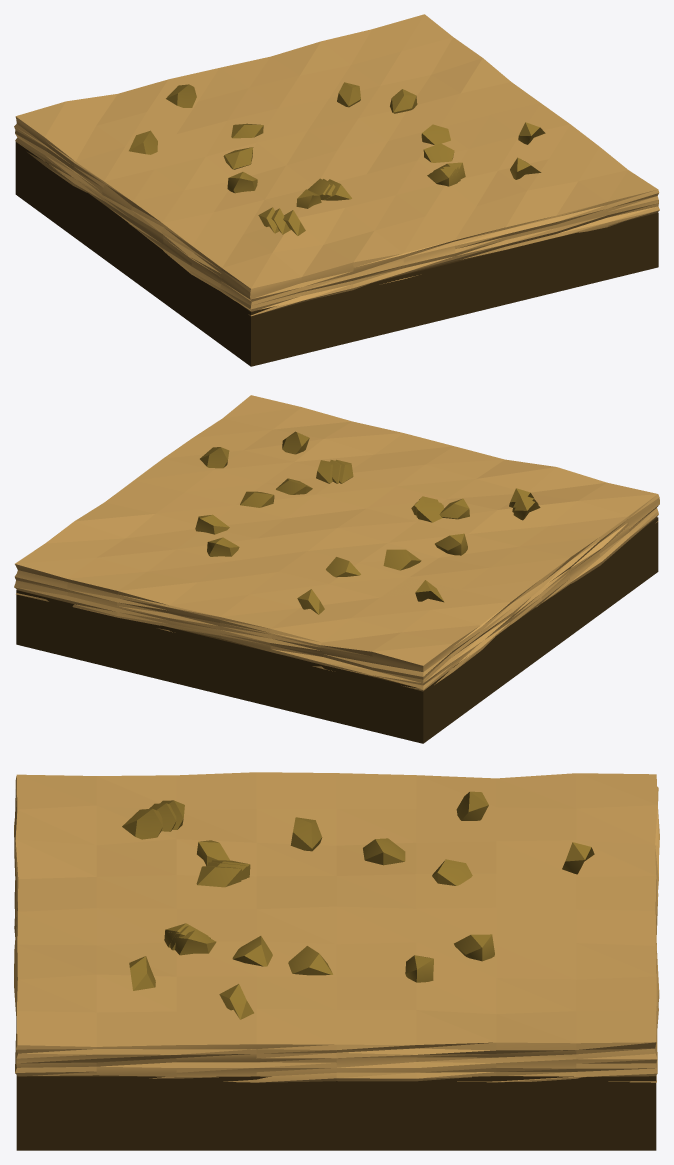
Rendered from FLOOR10.fbx.
The picture shows the model from 3 angles, top to bottom: view 1: azimuth 30°, elevation 25°; view 2: azimuth 150°, elevation 25°; view 3: azimuth 270°, elevation 25°; orthographic projection. The views are drawn at different scales.
Parts seen in each view (by area): view 1: Cube_2, Cube, Cube_1, Platonic_1_6, Platonic_1_4; view 2: Cube_2, Cube, Cube_1, Platonic_8, Platonic_11; view 3: Cube_2, Cube, Cube_1, Platonic_1_3, Platonic_8, Platonic_4, Platonic_3, Platonic_11, Platonic_6, Platonic_10, Platonic_12, Platonic_5 (+6 smaller).
Part boxes in pixels (<box>): Cube_2: <box>14,14,659,316</box>; Cube: <box>15,167,658,366</box>; Cube_1: <box>15,142,658,339</box>; Platonic_1_6: <box>166,84,196,107</box>; Platonic_1_4: <box>129,130,157,154</box>; Cube_2: <box>14,395,659,691</box>; Cube: <box>16,545,658,743</box>; Cube_1: <box>16,517,658,716</box>; Platonic_8: <box>383,549,421,570</box>; Platonic_11: <box>435,533,467,555</box>; Cube_2: <box>14,772,659,1082</box>; Cube: <box>16,1113,656,1150</box>; Cube_1: <box>16,1075,656,1113</box>; Platonic_1_3: <box>122,808,162,839</box>; Platonic_8: <box>363,838,405,865</box>; Platonic_4: <box>288,946,332,975</box>; Platonic_3: <box>454,934,494,961</box>; Platonic_11: <box>290,817,322,851</box>; Platonic_6: <box>196,866,241,887</box>; Platonic_10: <box>232,936,272,966</box>; Platonic_12: <box>432,859,472,885</box>; Platonic_5: <box>174,930,216,955</box>.
Bounding box in the file's own units: 405 × 91.79 × 404.
